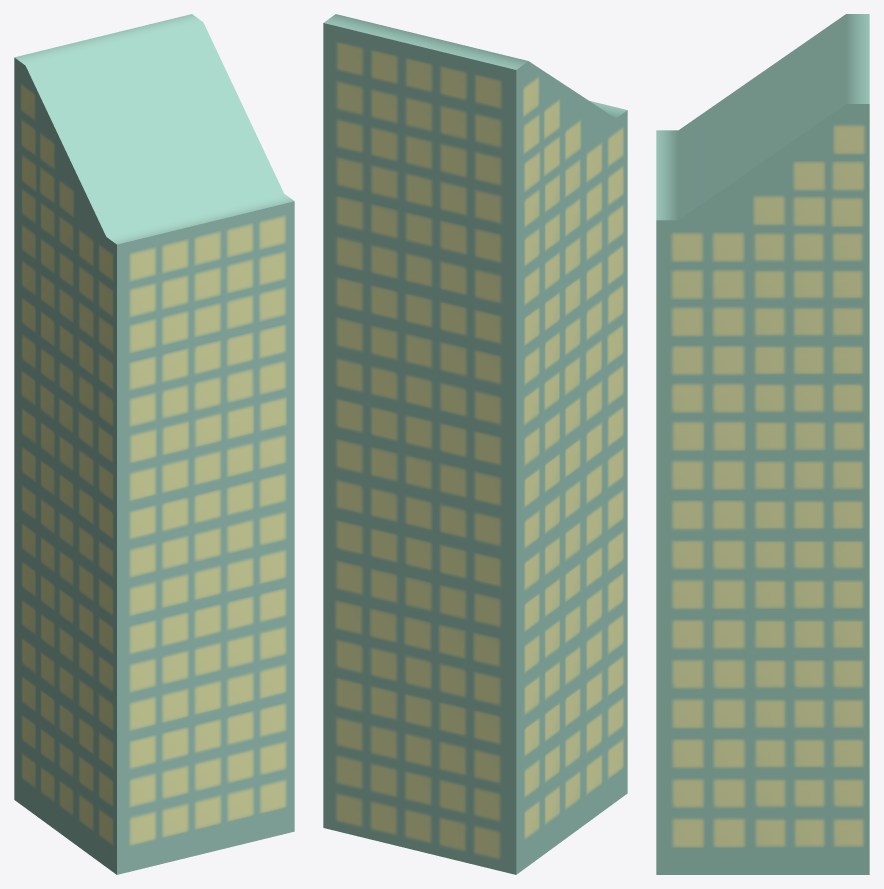
Rendered from c1Whole.fbx.
3 renders of one model, left to right at view 1: azimuth 30°, elevation 25°; view 2: azimuth 150°, elevation 25°; view 3: azimuth 270°, elevation 25°, orthographic. The views are drawn at different scales.
Parts seen in each view (by area): view 1: Citigroup1; view 2: Citigroup1; view 3: Citigroup1.
Part boxes in pixels (x1,y1,x2,y2): Citigroup1: (14,14,294,874); Citigroup1: (323,14,627,874); Citigroup1: (656,14,869,874).
Size of the model in its own units: 0.0917 by 0.3658 by 0.0917.
1 material, 1 textured.
